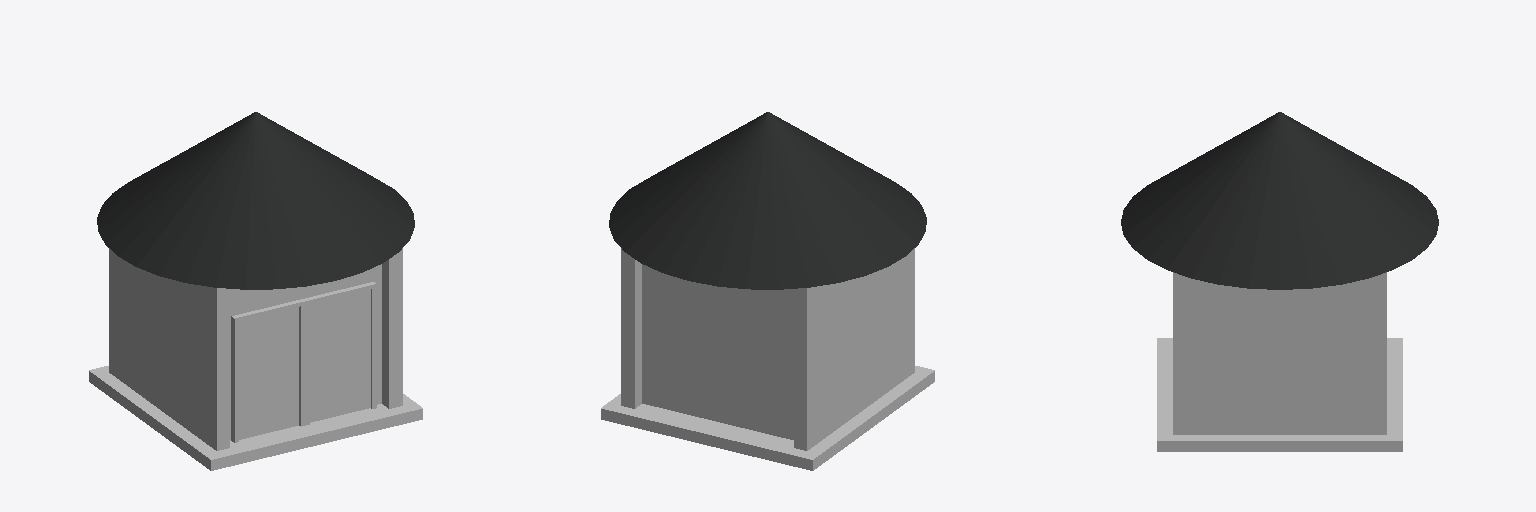
3 views of the same model, side by side, from view 1: azimuth 30°, elevation 25°; view 2: azimuth 150°, elevation 25°; view 3: azimuth 270°, elevation 25° (orthographic).
Parts seen in each view (by area): view 1: Cone, Plane, Shed.001_Cube.001; view 2: Plane, Cone; view 3: Plane, Cone.
Boxes of the visible parts, x1=… form: Cone: x1=97, y1=112, x2=414, y2=289; Plane: x1=89, y1=248, x2=422, y2=470; Shed.001_Cube.001: x1=231, y1=282, x2=376, y2=442; Plane: x1=601, y1=248, x2=934, y2=470; Cone: x1=609, y1=112, x2=926, y2=289; Plane: x1=1157, y1=272, x2=1402, y2=451; Cone: x1=1121, y1=112, x2=1438, y2=289.
Size of the model in its own units: 2.6 by 2.6 by 2.6.
3 materials, 1 textured.